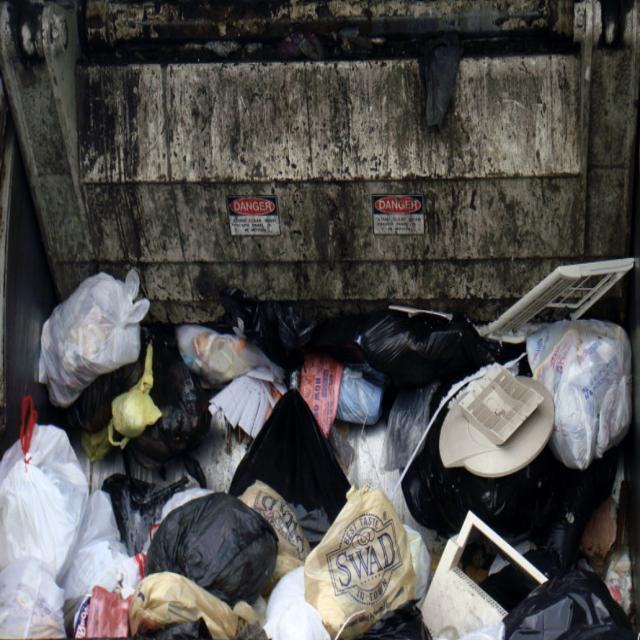bag: (0, 411, 127, 636), (295, 472, 425, 640), (140, 475, 271, 640), (34, 264, 148, 404)
paper: (432, 346, 560, 490)
